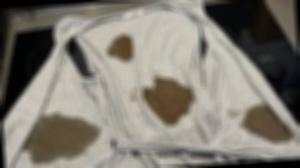coffee: (28, 116, 85, 154), (146, 80, 188, 118), (251, 111, 277, 135), (110, 37, 133, 61)
